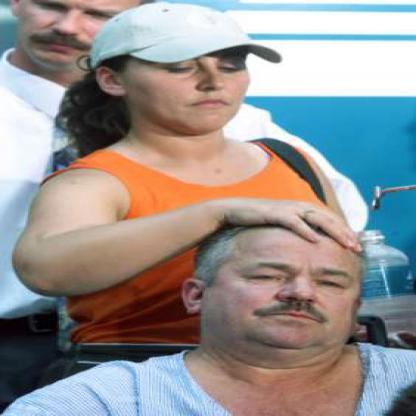face: (202, 224, 369, 354), (120, 8, 260, 135), (18, 1, 136, 71)
